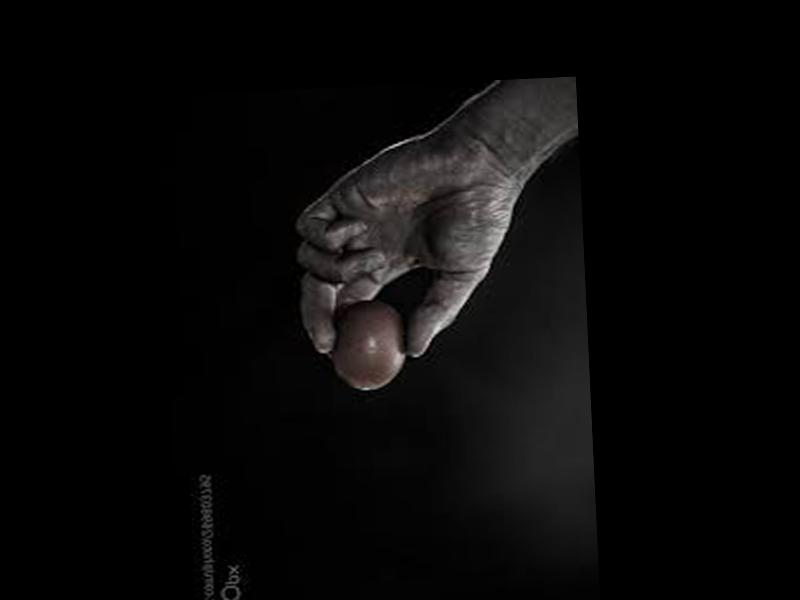Eggs: (330, 296, 410, 391)
